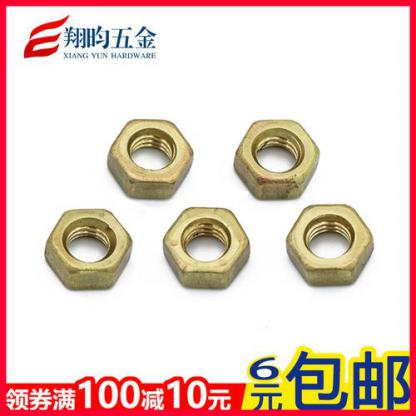FOD: (39, 207, 135, 293), (284, 203, 375, 289), (232, 116, 322, 201), (162, 206, 252, 290), (107, 117, 195, 200)
